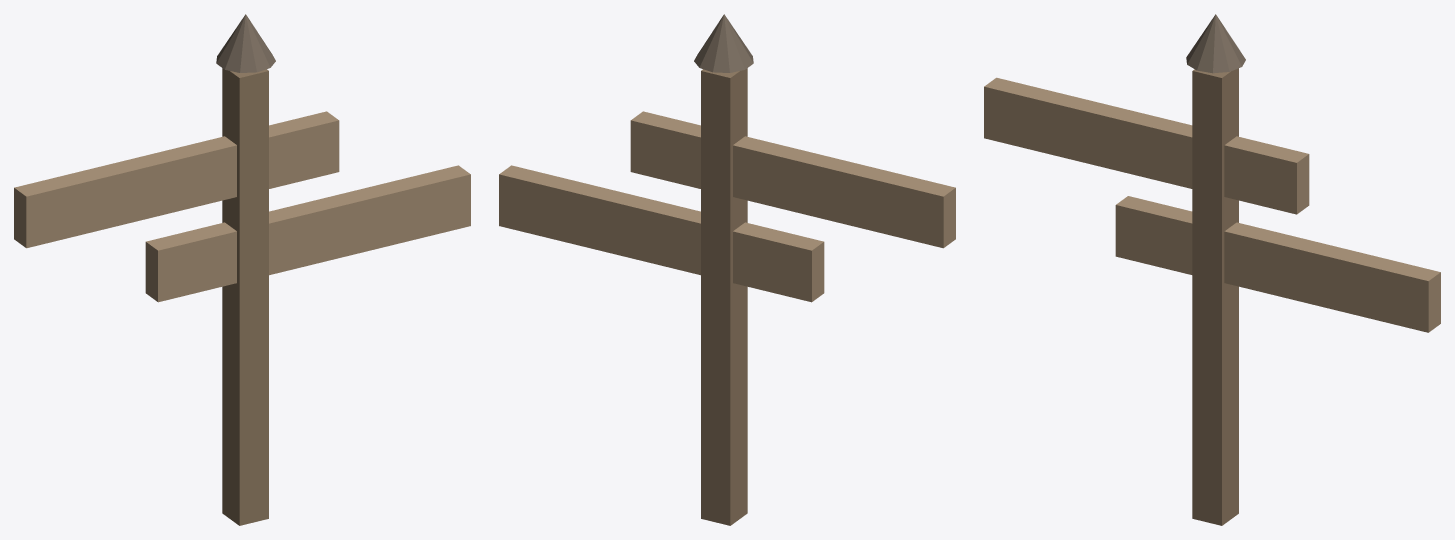
Rendered from wegweiser_alt_holz.glb.
The picture shows the model from 3 angles, left to right: view 1: azimuth 30°, elevation 25°; view 2: azimuth 150°, elevation 25°; view 3: azimuth 330°, elevation 25°; orthographic projection.
Visible parts, largest first — view 1: wegweiser_alt_holz_n1, wegweiser_alt_holz_n3, wegweiser_alt_holz_n2, wegweiser_alt_holz_n4; view 2: wegweiser_alt_holz_n1, wegweiser_alt_holz_n3, wegweiser_alt_holz_n2, wegweiser_alt_holz_n4; view 3: wegweiser_alt_holz_n1, wegweiser_alt_holz_n2, wegweiser_alt_holz_n3, wegweiser_alt_holz_n4.
Boxes of the visible parts, x1,y1,x2,y2 form: wegweiser_alt_holz_n1: [222, 68, 268, 525]; wegweiser_alt_holz_n3: [145, 165, 470, 302]; wegweiser_alt_holz_n2: [14, 111, 339, 248]; wegweiser_alt_holz_n4: [216, 14, 275, 72]; wegweiser_alt_holz_n1: [701, 68, 747, 525]; wegweiser_alt_holz_n3: [499, 165, 824, 302]; wegweiser_alt_holz_n2: [630, 111, 955, 248]; wegweiser_alt_holz_n4: [694, 14, 753, 72]; wegweiser_alt_holz_n1: [1192, 68, 1238, 525]; wegweiser_alt_holz_n2: [984, 77, 1309, 214]; wegweiser_alt_holz_n3: [1115, 196, 1440, 332]; wegweiser_alt_holz_n4: [1186, 14, 1245, 73].
Size of the model in its own units: 2.7 by 2.91 by 0.3167.
